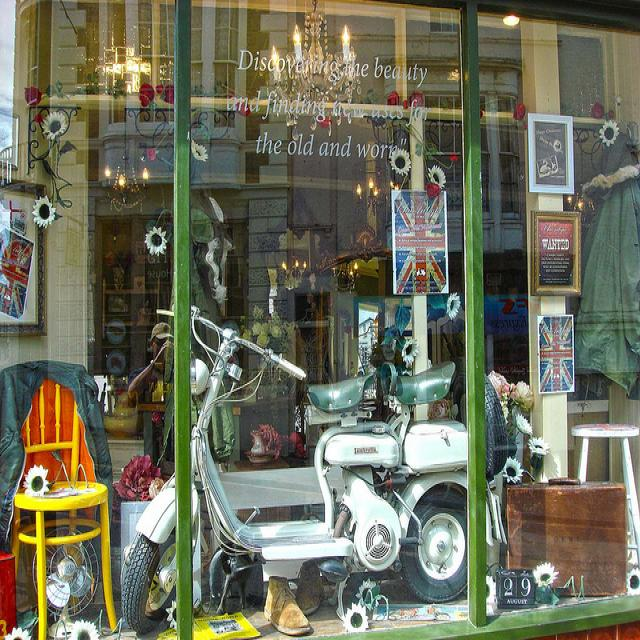motor: (122, 309, 468, 634)
